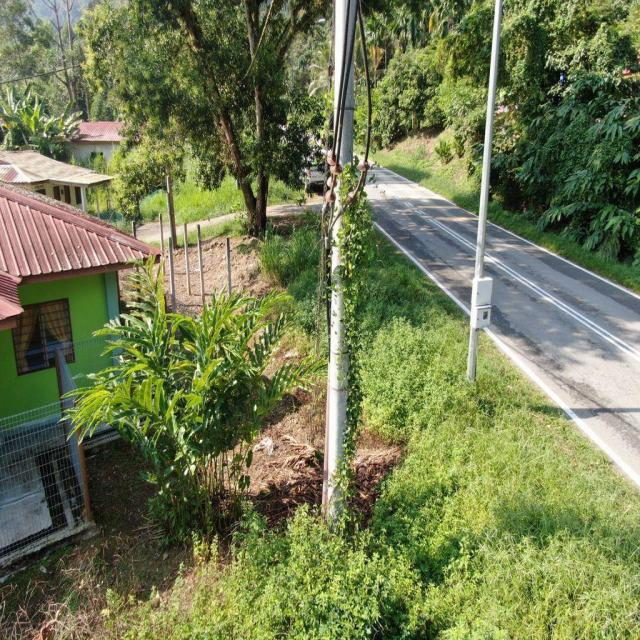light_pole: (310, 150, 374, 518)
